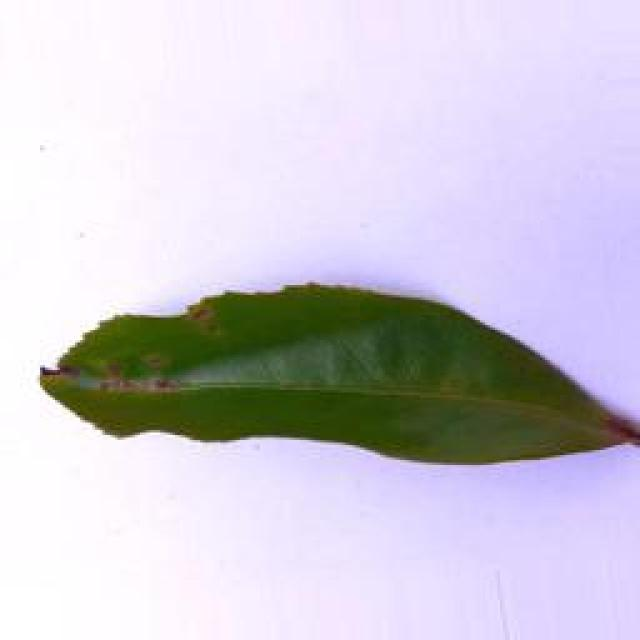Helopeltis: (30, 279, 638, 472)
